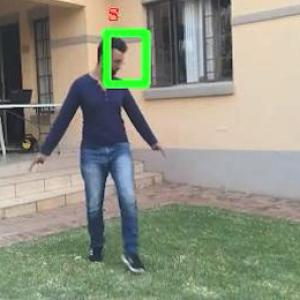land: (35, 27, 188, 288)
